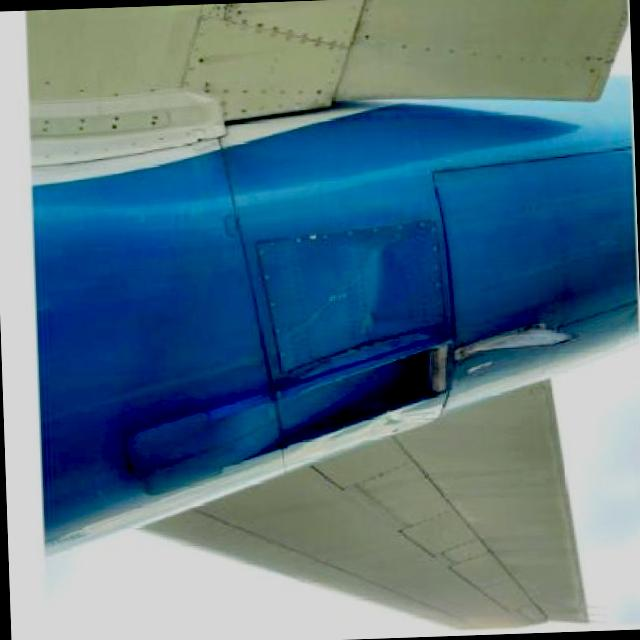dent: (340, 228, 434, 333)
